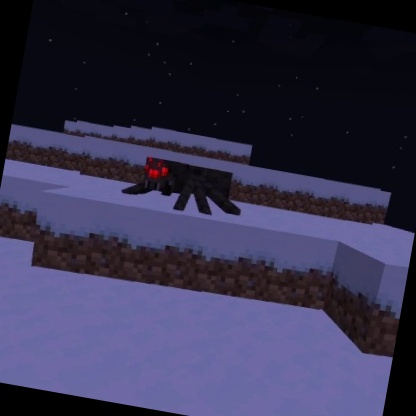spider: (117, 149, 254, 226)
